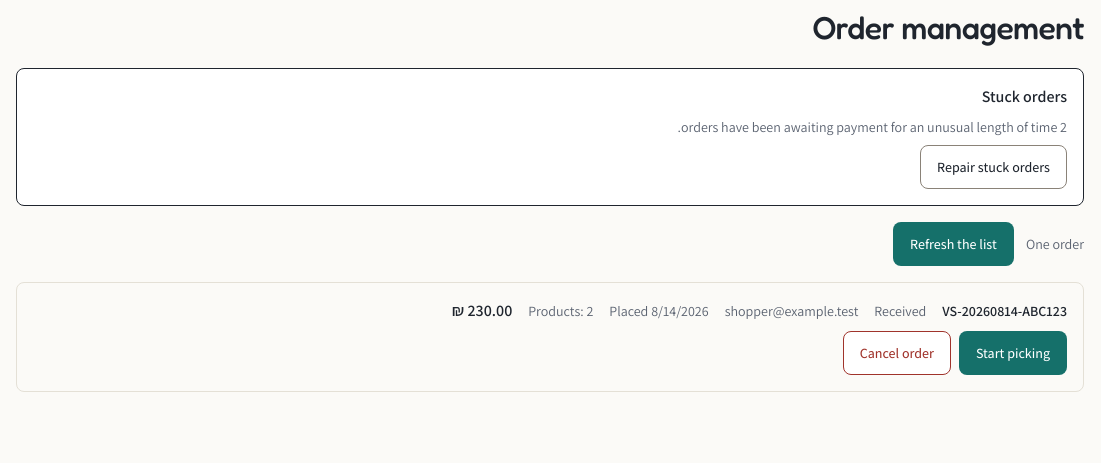
Test case: the stuck-order trigger › backing out sends nothing
The width and height of the screenshot is (1101, 463).
What coordinates should you click on to do the following:
click the button "Repair stuck orders"
I would click on:
 (994, 167)
Its box is [920,145,1067,189].
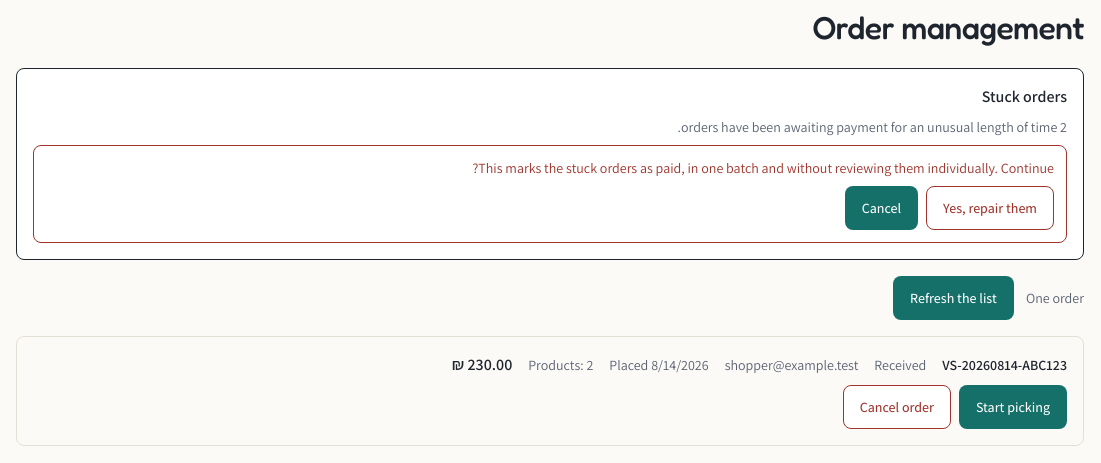
What coordinates should you click on to do the following:
click the button "Cancel"
I would click on:
 (881, 208)
Its box is [845,186,918,230].
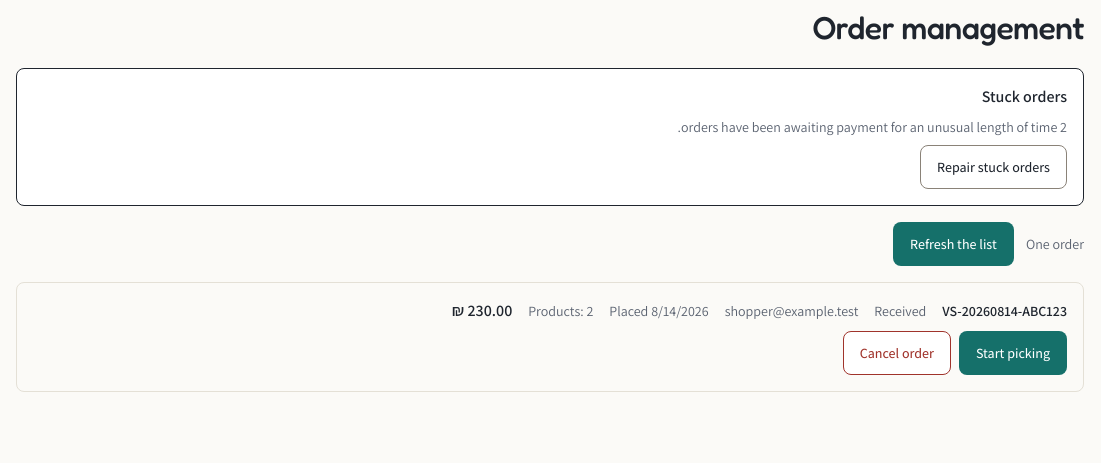
Check: the text "marks the stuck orders as paid" is gone
